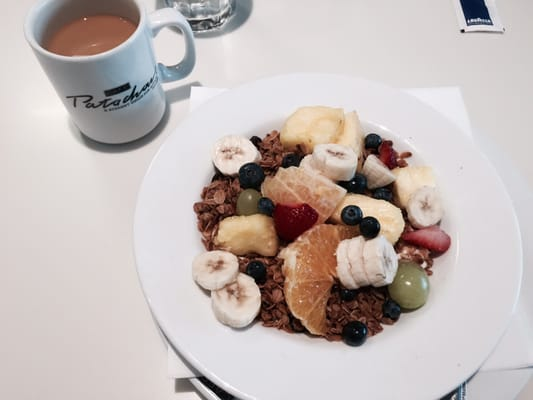pasta: (214, 213, 279, 258), (406, 186, 444, 229)
pizza: (23, 0, 197, 145)
